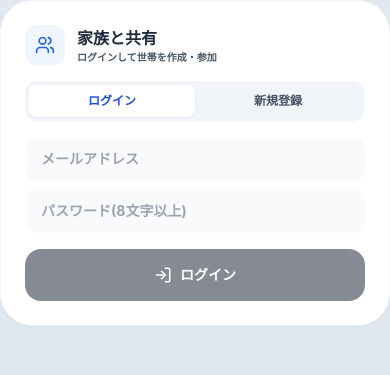
AccountPanel (logged out) › shows an error message when login fails
Step 1. Type "a@example.com" into the field with placeholder "メールアドレス" → (195, 159), box [25,137,365,181]
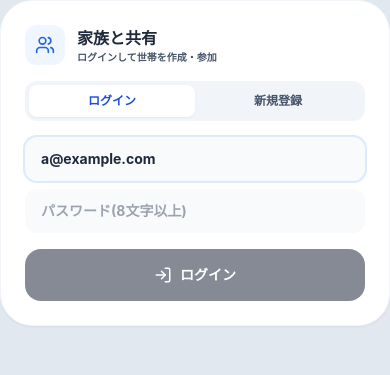
Step 2. Type "wrongpass" into the password field with placeholder "パスワード(8文字以上)" → (195, 211), box [25,189,365,233]
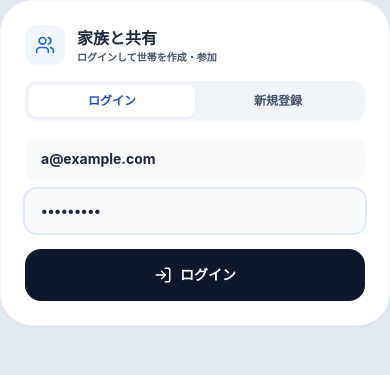
Step 3. Click the button with aria-label "ログインする" → (195, 275), box [25,249,365,301]
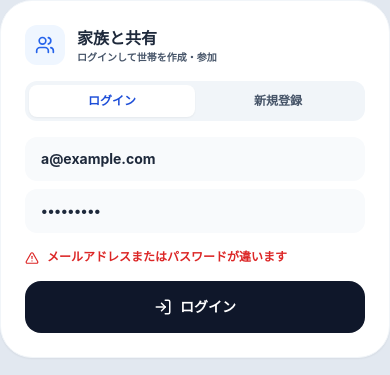
Check: the text "メールアドレスまたはパスワードが違います" is shown, box [47,249,287,265]
